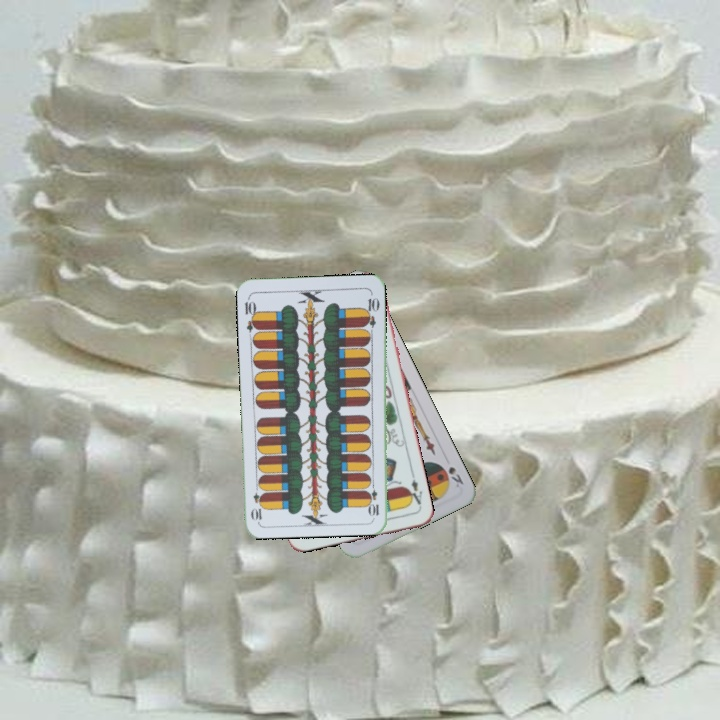E10: (241, 293, 261, 334), (367, 478, 382, 519)
EA: (404, 470, 425, 510)
SK: (444, 462, 466, 490)
